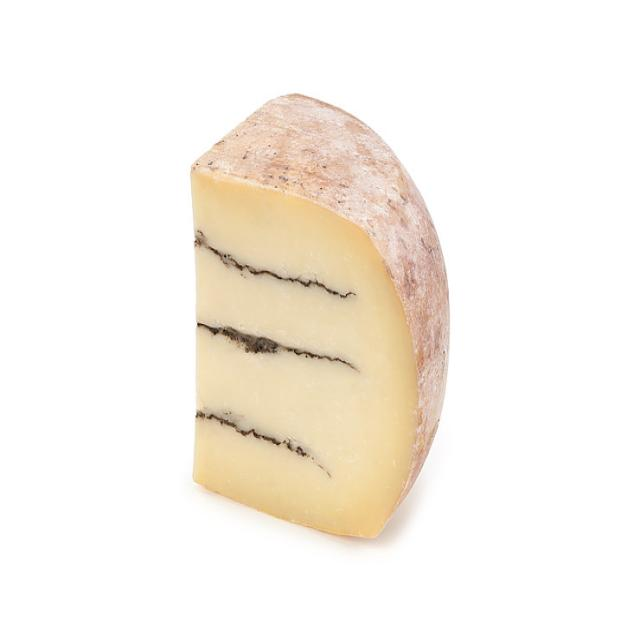Cheese: (188, 73, 451, 568)
